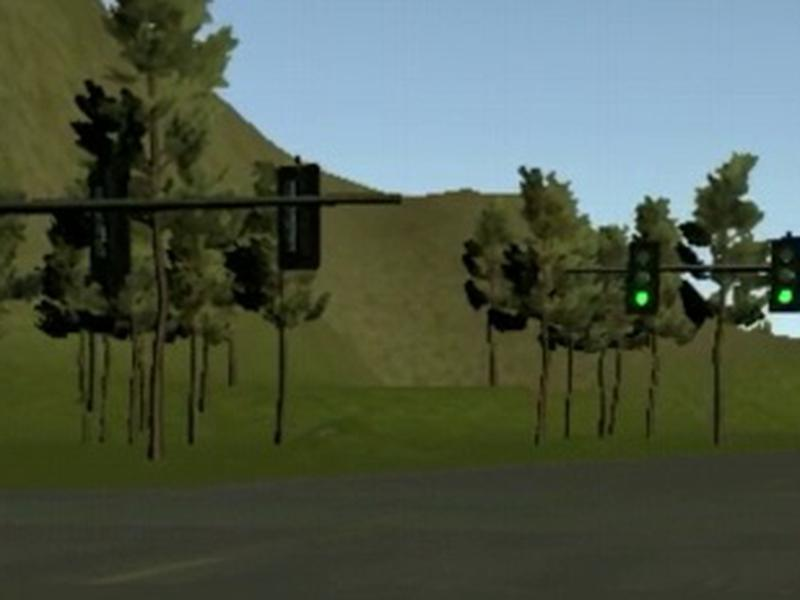Green: (626, 242, 660, 314), (768, 239, 800, 312)
